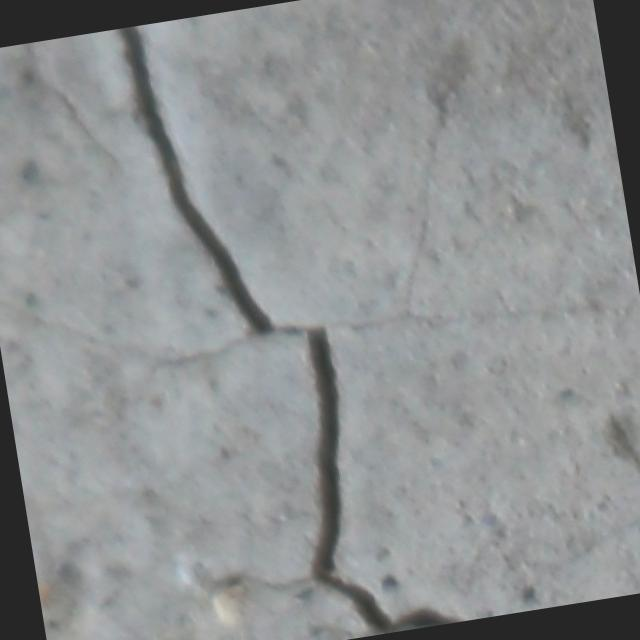crack: (102, 0, 456, 640)
spall: (39, 537, 371, 640)
